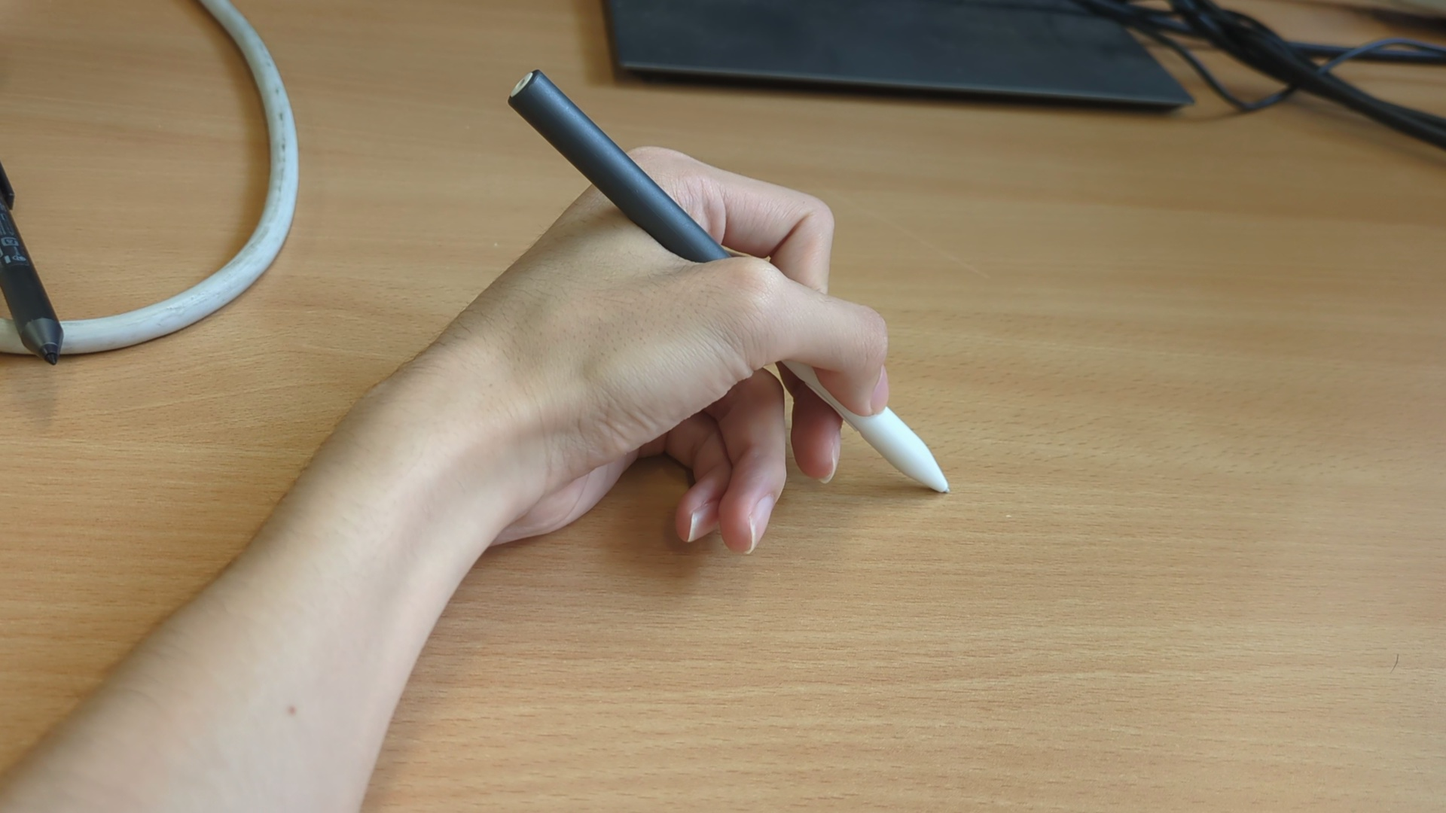pen: (507, 69, 952, 498)
tip: (933, 477, 953, 495)
